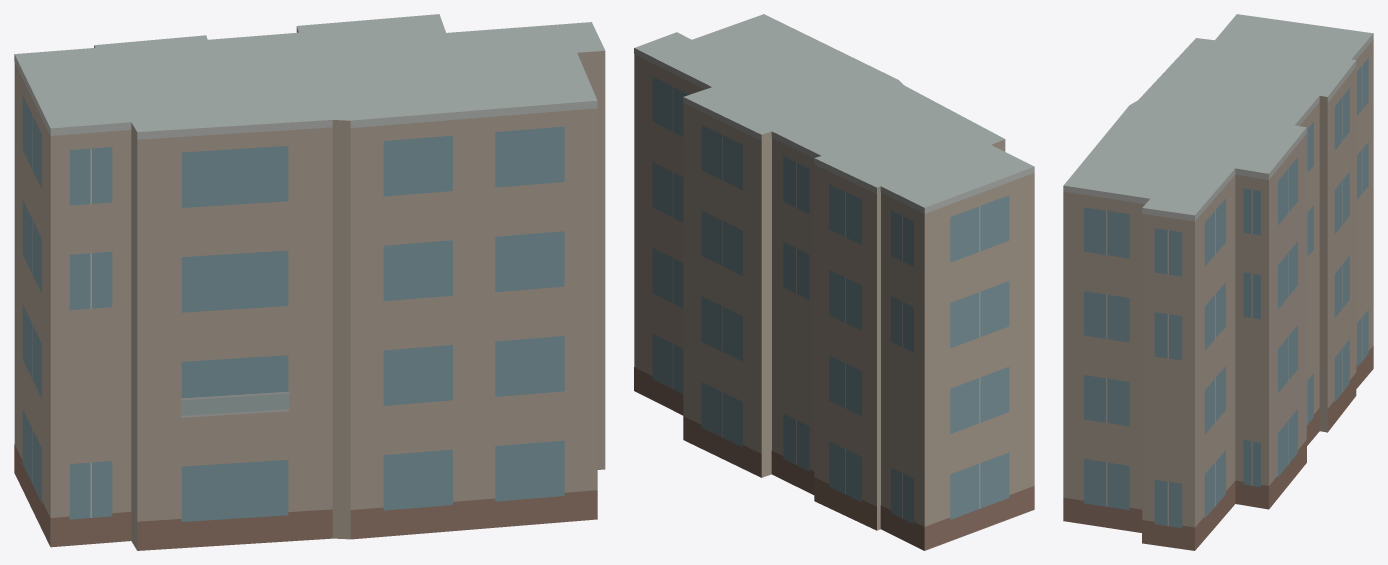
Rendered from survey-upis-32897579.glb.
The picture shows the model from 3 angles, left to right: view 1: azimuth 30°, elevation 25°; view 2: azimuth 150°, elevation 25°; view 3: azimuth 270°, elevation 25°; orthographic projection. The views are drawn at different scales.
Parts seen in each view (by area): view 1: survey-upis-32897579.tmp; view 2: survey-upis-32897579.tmp; view 3: survey-upis-32897579.tmp.
Part boxes in pixels (bbox=[...]): survey-upis-32897579.tmp: bbox=[14, 14, 605, 550]; survey-upis-32897579.tmp: bbox=[634, 14, 1034, 550]; survey-upis-32897579.tmp: bbox=[1063, 14, 1373, 550].
Size of the model in its own units: 17.38 by 13.49 by 11.31.
